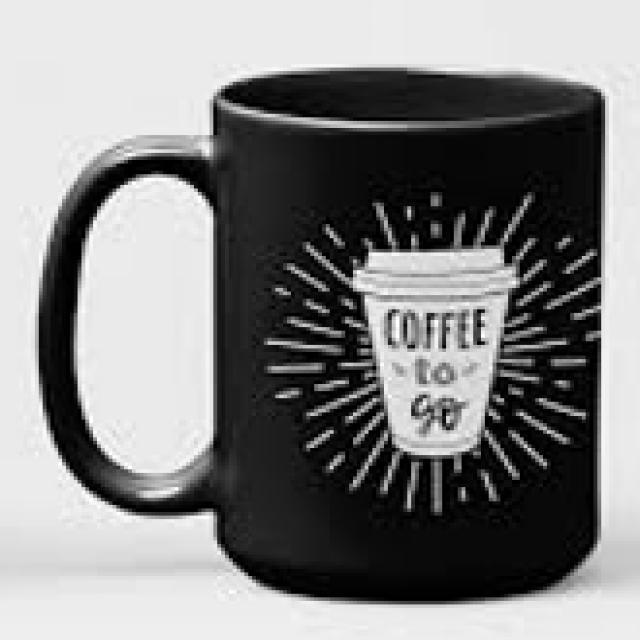taza: (36, 67, 610, 606)
